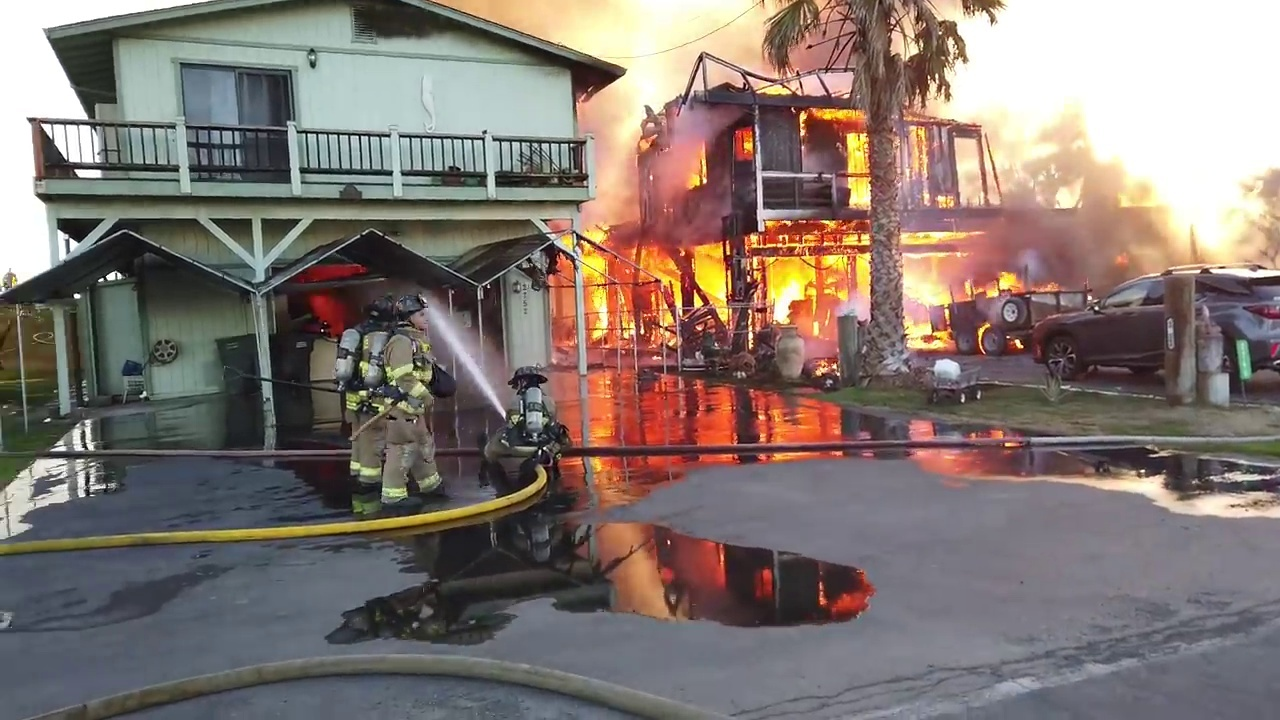fire: (574, 180, 1034, 368), (767, 1, 1066, 158), (1165, 160, 1277, 257), (295, 269, 360, 326), (1, 269, 16, 292)
smoke: (574, 1, 765, 234), (988, 165, 1153, 283)
